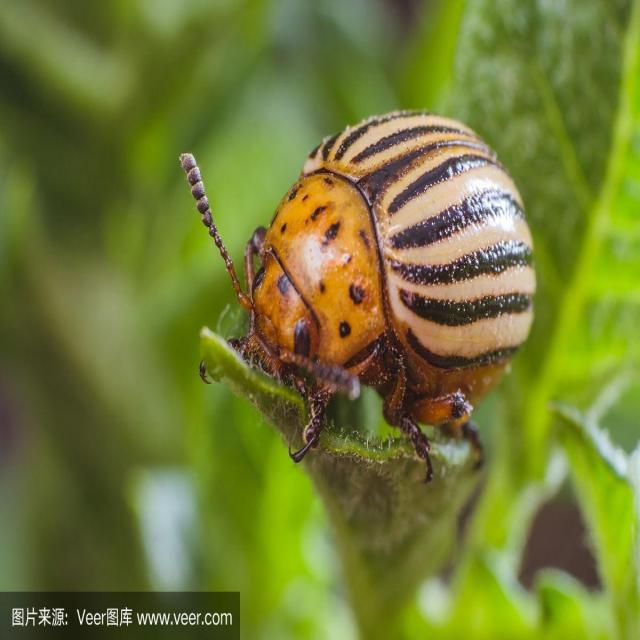ShuCaiHuaBanChong-Grown-: (196, 83, 551, 460)
